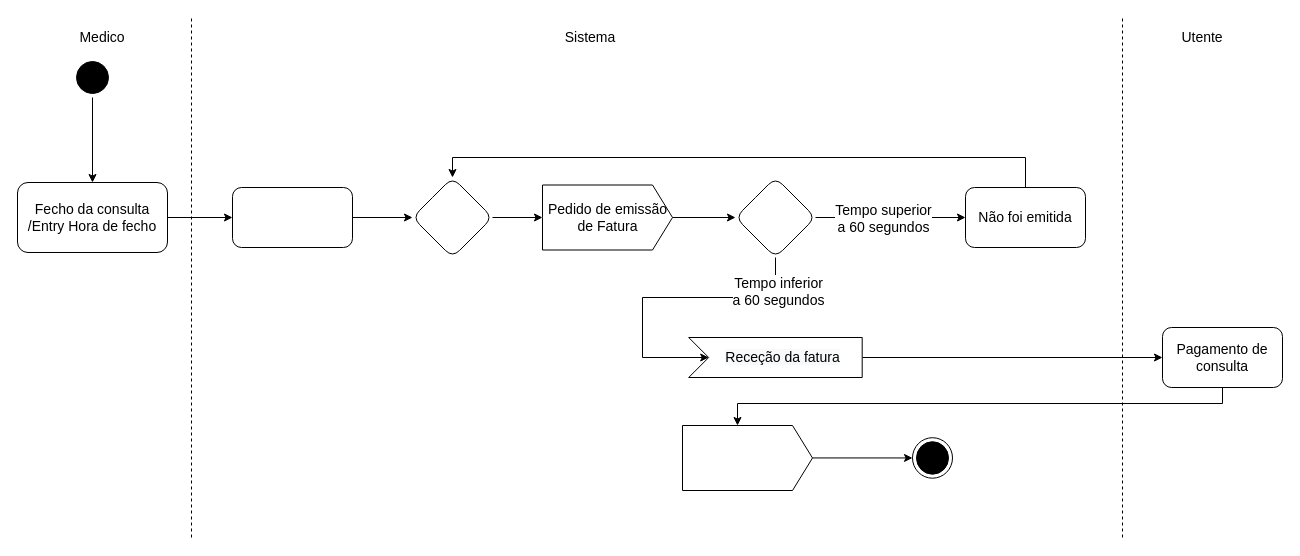
Image size: 1300x556. Some labels were removed from this diagram. Here are the shapes that lost their labels. From the top down, the centre of each, then its label:
At (292,217): "Guardar no histórico".
At (747,457): "Envio do recibo por email".
